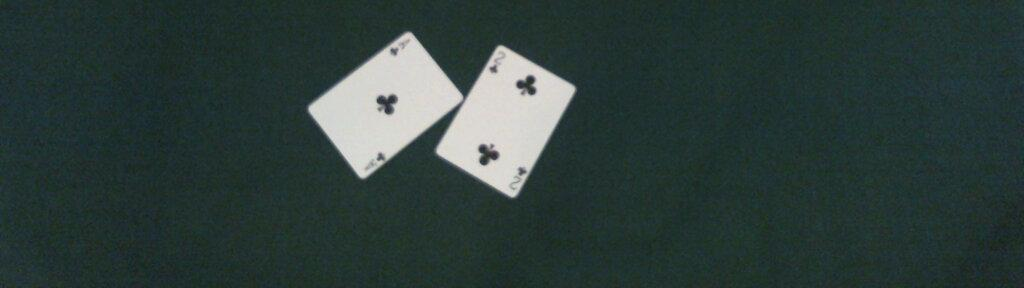ace: (307, 29, 464, 178)
two: (434, 43, 578, 197)
